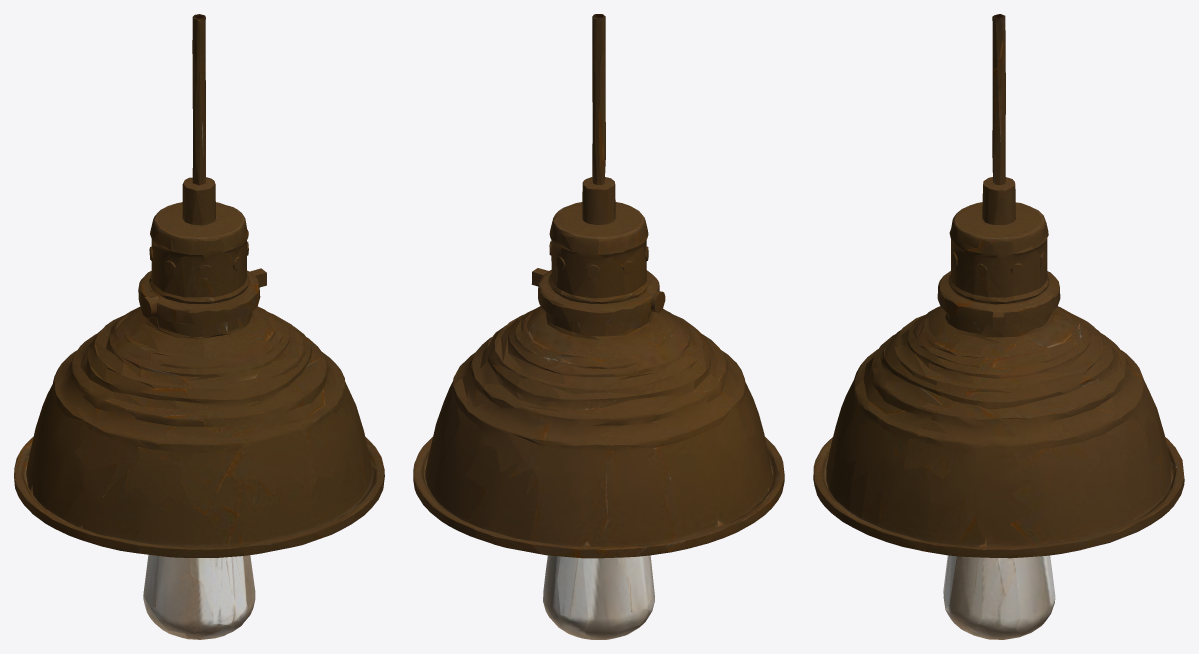
File: pendant_lamp.glb
3 views of the same model, side by side, from view 1: azimuth 30°, elevation 25°; view 2: azimuth 150°, elevation 25°; view 3: azimuth 270°, elevation 25° (orthographic).
Bounding box in the file's own units: 1.03 × 1.9 × 1.03.
1 material, 1 textured.
